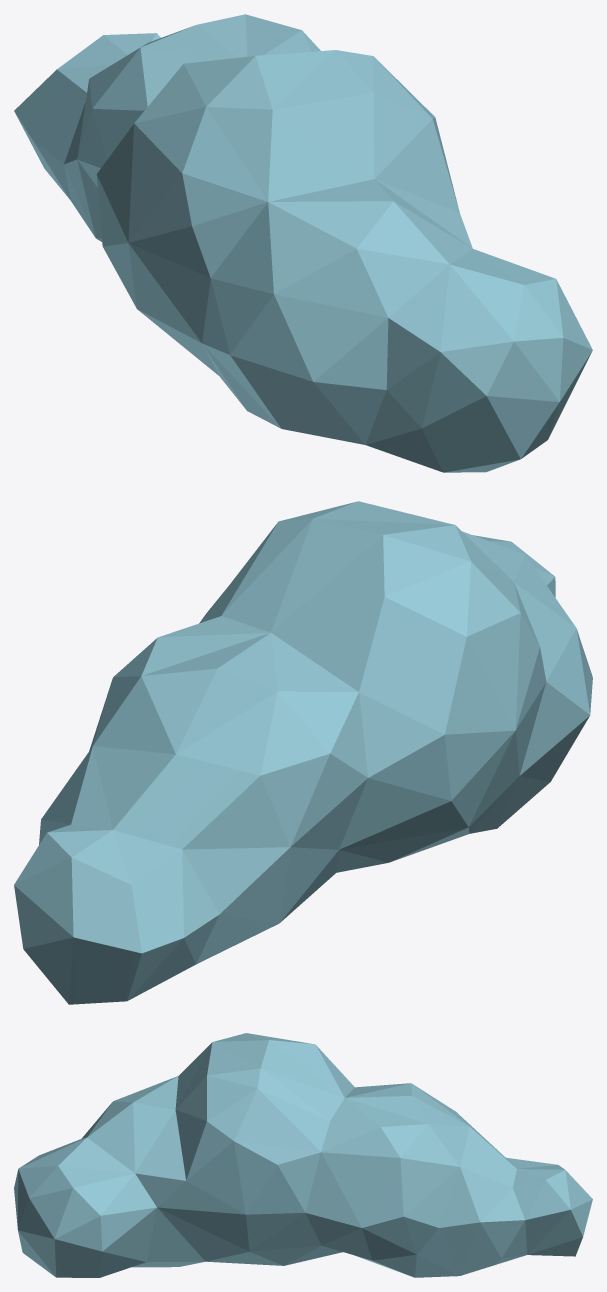
The model's file is cloud3.gltf.
3 renders of one model, top to bottom at view 1: azimuth 30°, elevation 25°; view 2: azimuth 150°, elevation 25°; view 3: azimuth 270°, elevation 25°, orthographic. The views are drawn at different scales.
Parts seen in each view (by area): view 1: cloud3_geo; view 2: cloud3_geo; view 3: cloud3_geo.
Part boxes in pixels (bbox=[...]): cloud3_geo: bbox=[14, 14, 592, 472]; cloud3_geo: bbox=[14, 501, 592, 1004]; cloud3_geo: bbox=[14, 1033, 592, 1277].
Bounding box in the file's own units: 1.84 × 1.83 × 4.52.
